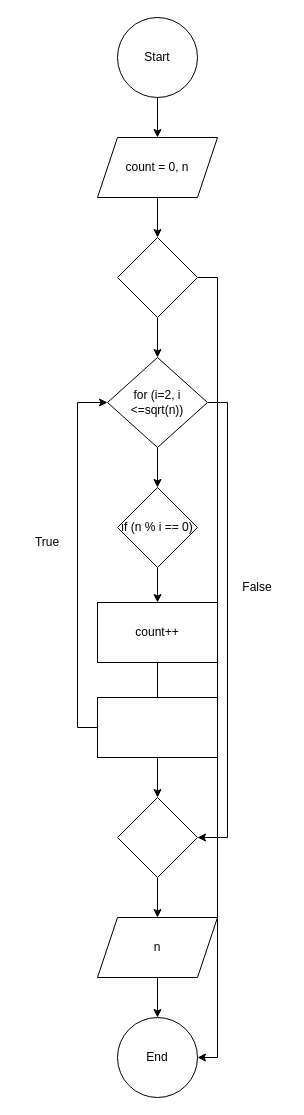
Some shapes in this 304 by 1115 pixel diagram are drawn without their labels. The shapes that lost their labels are listed below. From the top down, each one's box as (x1, y1, x2, y2) in pixels, then its label:
(116, 236, 198, 318): n < 2
(96, 696, 218, 758): i++
(116, 796, 198, 878): count > 0
